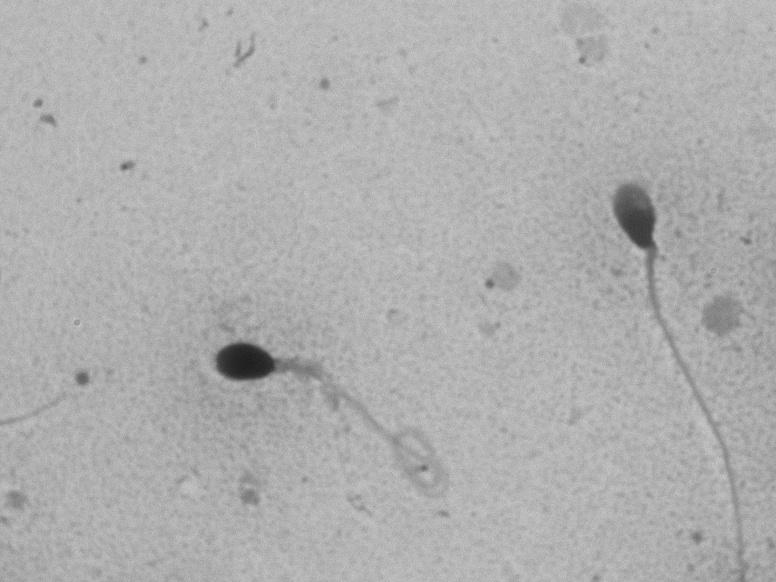Abnormal: (143, 292, 475, 525), (571, 164, 742, 493)
